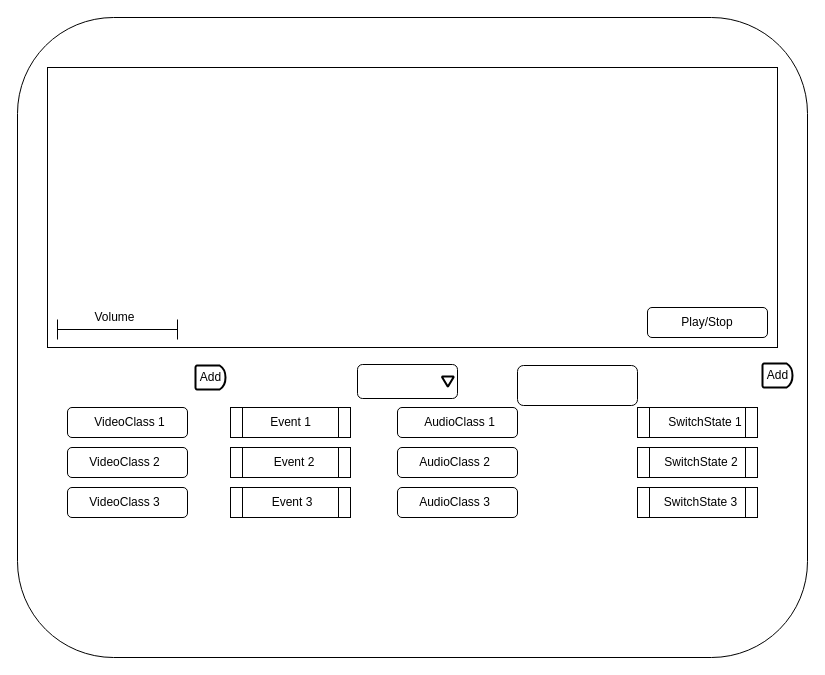
Some shapes in this 825 by 675 pixel diagram are drawn without their labels. Here are the shapes that lost their labels. From the top down, the centre of each, then its label:
At pixel 407 381: "SwitchEvent".
At pixel 577 385: "SwitchGroup".
